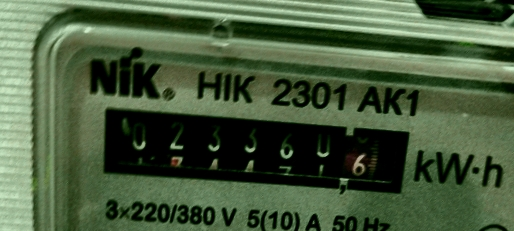0: (123, 117, 149, 154), (306, 128, 332, 162)
2: (162, 118, 186, 153)
3: (236, 121, 260, 156), (198, 121, 221, 155)
6: (271, 127, 296, 163), (344, 146, 369, 182)
screen: (77, 81, 425, 220)
